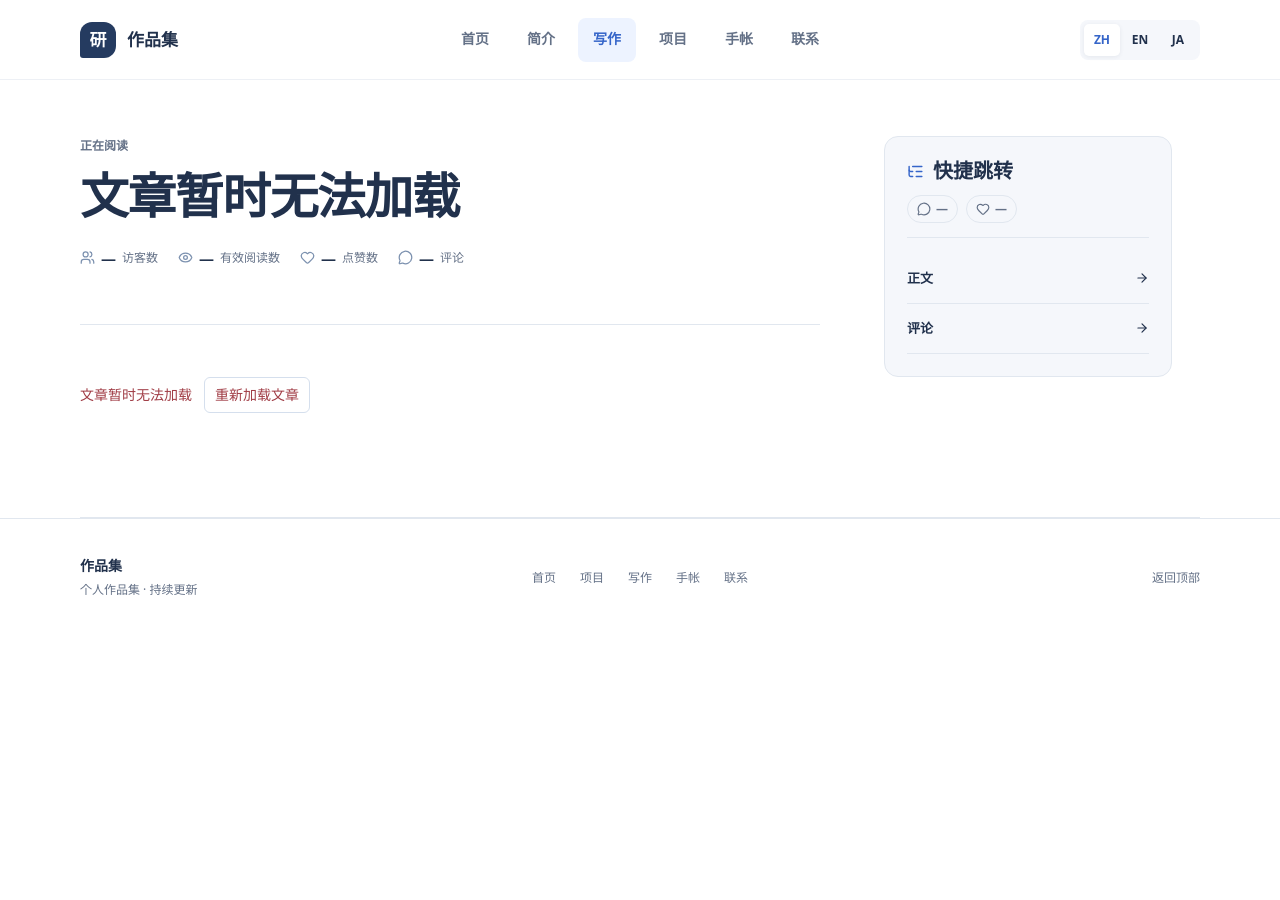
Test: article request lifecycle › shows loading before a detail failure and records no activity until a successful retry
expect the heading named "正在加载文章…" is shown: met, box 80,162 -> 459,228
expect the message shows "文章暂时无法加载": met, box 80,385 -> 192,404
Click the button "重新加载文章" at x=257, y=395, box 204,377 -> 310,413
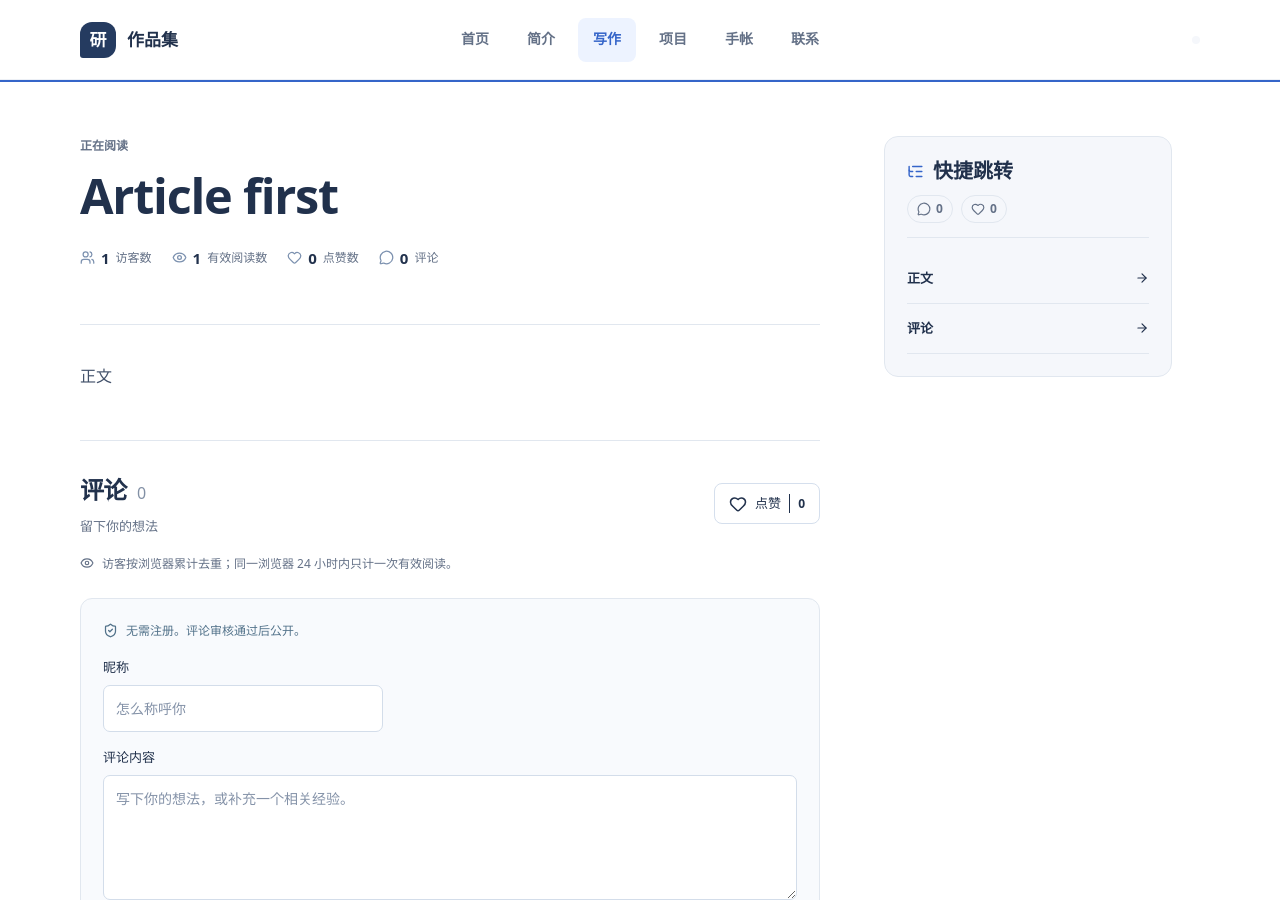
expect the heading "Article first" is shown: met, box 80,162 -> 338,228
